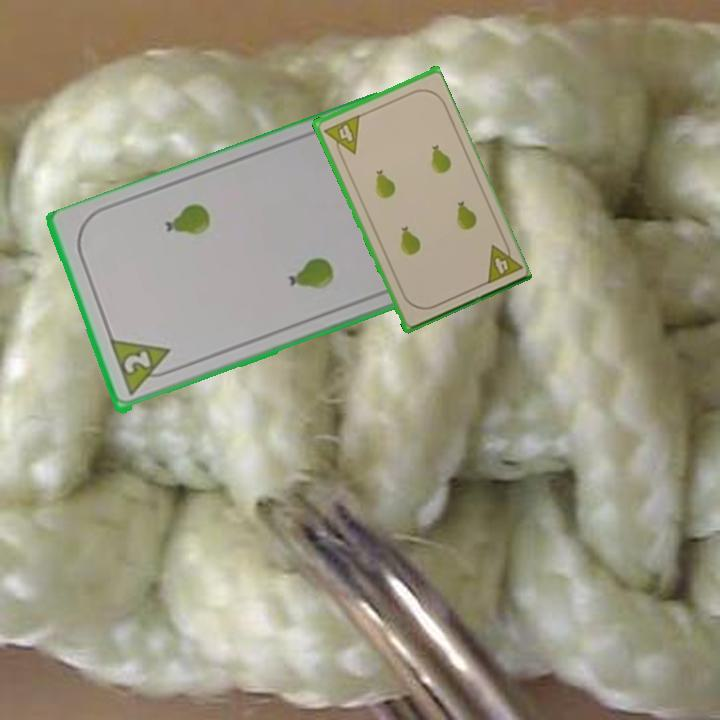2p: (106, 337, 179, 399)
4p: (481, 236, 523, 287), (319, 112, 362, 161)
